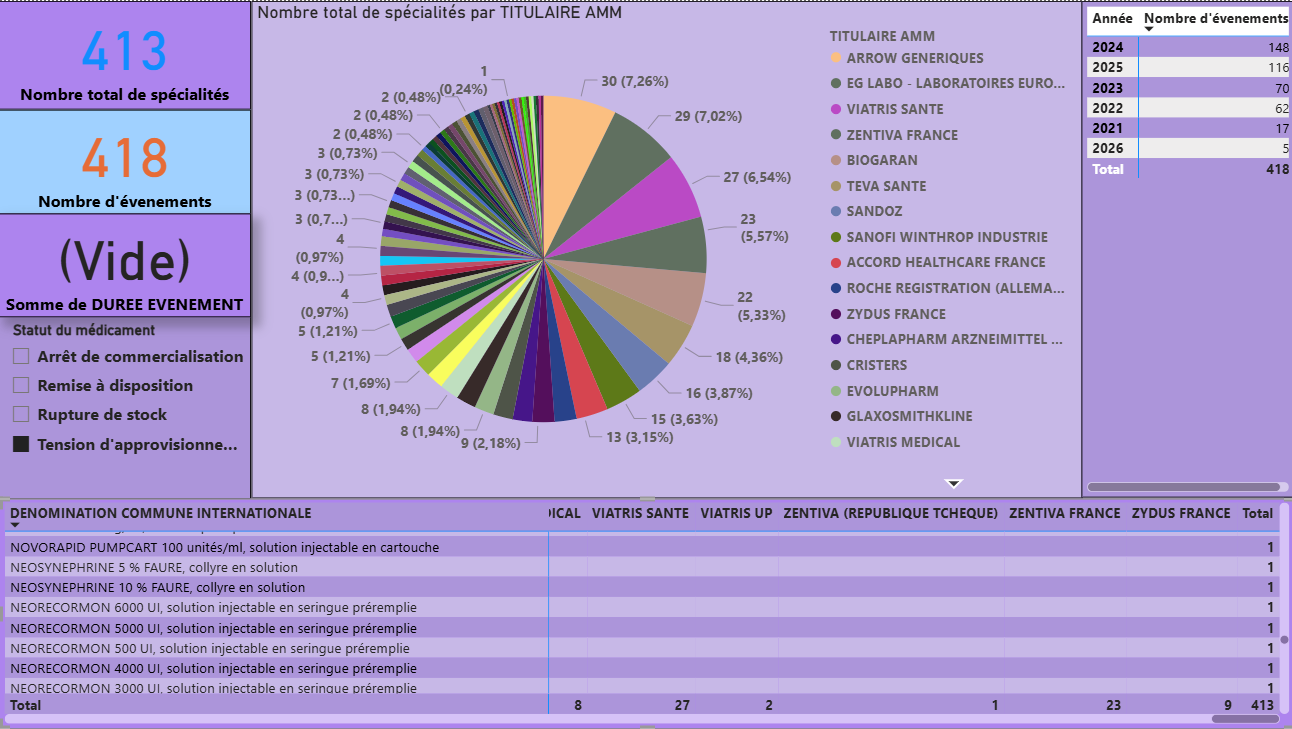

The dashboard page shown, as its layout file describes it:
{"tool":"powerbi","page":{"name":"Les années les plus troubles","canvas":[1280,720],"ordinal":3},"visuals":[{"type":"slicer","fields":{"Values":["FACT_Dispo_Spec.Statut du médicament"]},"box":[0,311.6,249,181],"z":0},{"type":"pieChart","fields":{"Category":["DIM INFOS MEDICAMENTS.TITULAIRE AMM"],"Y":["DIM INFOS MEDICAMENTS.Nombre total de spécialités"]},"box":[249,0,820.4,491.2],"z":1000},{"type":"card","fields":{"Values":["DIM INFOS MEDICAMENTS.Nombre total de spécialités"]},"box":[0,0,249,107],"z":2000},{"type":"card","fields":{"Values":["FACT_Dispo_Spec.nombre d'évenements"]},"box":[0,107,249,103],"z":3000},{"type":"card","fields":{"Values":["Sum(FACT_Dispo_Spec.DUREE EVENEMENT)"]},"box":[0,209.5,249,102],"z":4000},{"type":"pivotTable","fields":{"Rows":["DIM INFOS MEDICAMENTS.DCI"],"Columns":["DIM INFOS MEDICAMENTS.TITULAIRE AMM"],"Values":["DIM INFOS MEDICAMENTS.Nombre total de spécialités"]},"box":[0,491.4,1280.2,228.4],"z":5000},{"type":"pivotTable","fields":{"Values":["FACT_Dispo_Spec.Nombre d'évenements"],"Rows":["DIM_Date.Année"]},"box":[1069.1,0,211.1,201.2],"z":6000},{"type":"card","fields":{"Values":["DIM_Date.Max durée"]},"box":[1069.1,201.2,211.1,121],"z":6001},{"type":"card","fields":{"Values":["DIM_Date.Min durée"]},"box":[1069.1,338.3,211.1,153.1],"z":6002}]}

Visuals, with their boxes in screenshot pixels (x1, y1, x2, y2), scaled from the page's 1280x720 canvas onto the 1292x729 screenshot:
slicer - FACT_Dispo_Spec.Statut du médicament: (0,315,251,499)
pieChart - DIM INFOS MEDICAMENTS.TITULAIRE AMM x DIM INFOS MEDICAMENTS.Nombre total de spécialités: (251,0,1079,497)
card - DIM INFOS MEDICAMENTS.Nombre total de spécialités: (0,0,251,108)
card - FACT_Dispo_Spec.nombre d'évenements: (0,108,251,213)
card - Sum(FACT_Dispo_Spec.DUREE EVENEMENT): (0,212,251,315)
pivotTable - DIM INFOS MEDICAMENTS.DCI x DIM INFOS MEDICAMENTS.TITULAIRE AMM: (0,498,1291,728)
pivotTable - FACT_Dispo_Spec.Nombre d'évenements x DIM_Date.Année: (1079,0,1291,204)
card - DIM_Date.Max durée: (1079,204,1291,326)
card - DIM_Date.Min durée: (1079,343,1291,498)
